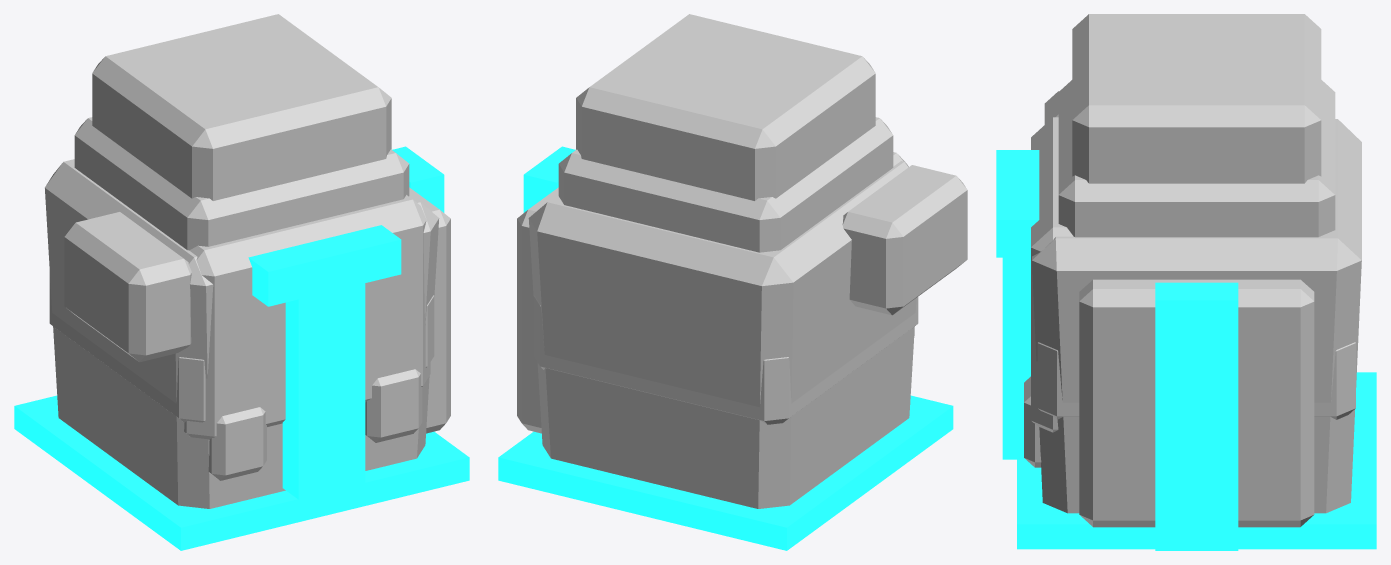
File: arm.L.cyber.glb
3 renders of one model, left to right at view 1: azimuth 30°, elevation 25°; view 2: azimuth 150°, elevation 25°; view 3: azimuth 270°, elevation 25°, orthographic. The views are drawn at different scales.
Parts seen in each view (by area): view 1: forearm.L@cyber.base, hand.L@cyber.base, forearm.L@cyber.emissive.cyan, arm.L@cyber.base, hand.L@cyber.emissive.cyan; view 2: forearm.L@cyber.base, arm.L@cyber.base, forearm.L@cyber.emissive.cyan, hand.L@cyber.base; view 3: forearm.L@cyber.base, forearm.L@cyber.emissive.cyan, arm.L@cyber.base, hand.L@cyber.base, hand.L@cyber.emissive.cyan.
Part boxes in pixels (<box>): forearm.L@cyber.base: <box>45,14,450,508</box>; hand.L@cyber.base: <box>64,195,430,480</box>; forearm.L@cyber.emissive.cyan: <box>14,146,469,550</box>; arm.L@cyber.base: <box>49,117,434,422</box>; hand.L@cyber.emissive.cyan: <box>248,225,401,306</box>; forearm.L@cyber.base: <box>517,14,916,508</box>; arm.L@cyber.base: <box>533,117,918,424</box>; forearm.L@cyber.emissive.cyan: <box>498,146,953,550</box>; hand.L@cyber.base: <box>842,152,967,335</box>; forearm.L@cyber.base: <box>1032,14,1361,527</box>; forearm.L@cyber.emissive.cyan: <box>1002,257,1376,550</box>; arm.L@cyber.base: <box>1037,80,1355,419</box>; hand.L@cyber.base: <box>1024,91,1073,467</box>; hand.L@cyber.emissive.cyan: <box>996,150,1039,257</box>.
Size of the model in its own units: 0.325 by 0.335 by 0.275.
